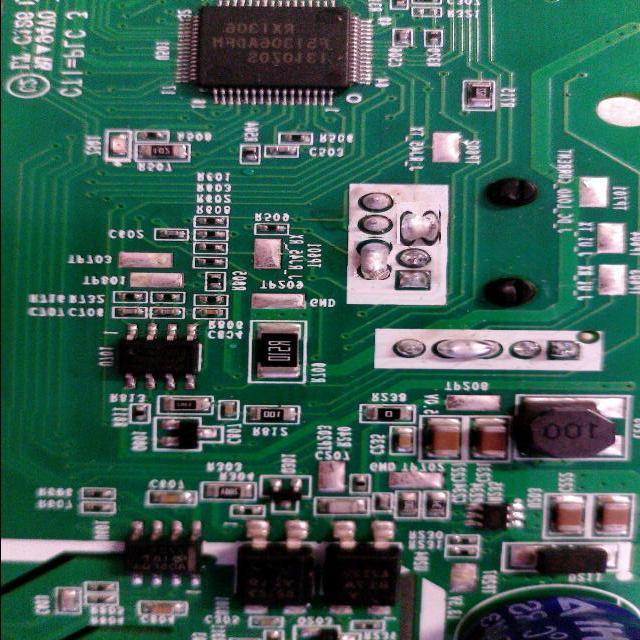Short_circuit: (432, 334, 506, 362), (398, 203, 440, 245), (354, 238, 390, 280)
